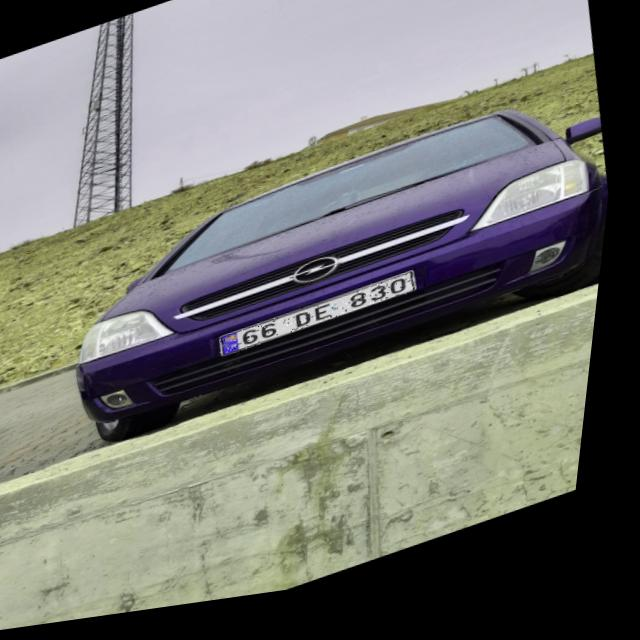license_plate: (225, 282, 425, 366)
